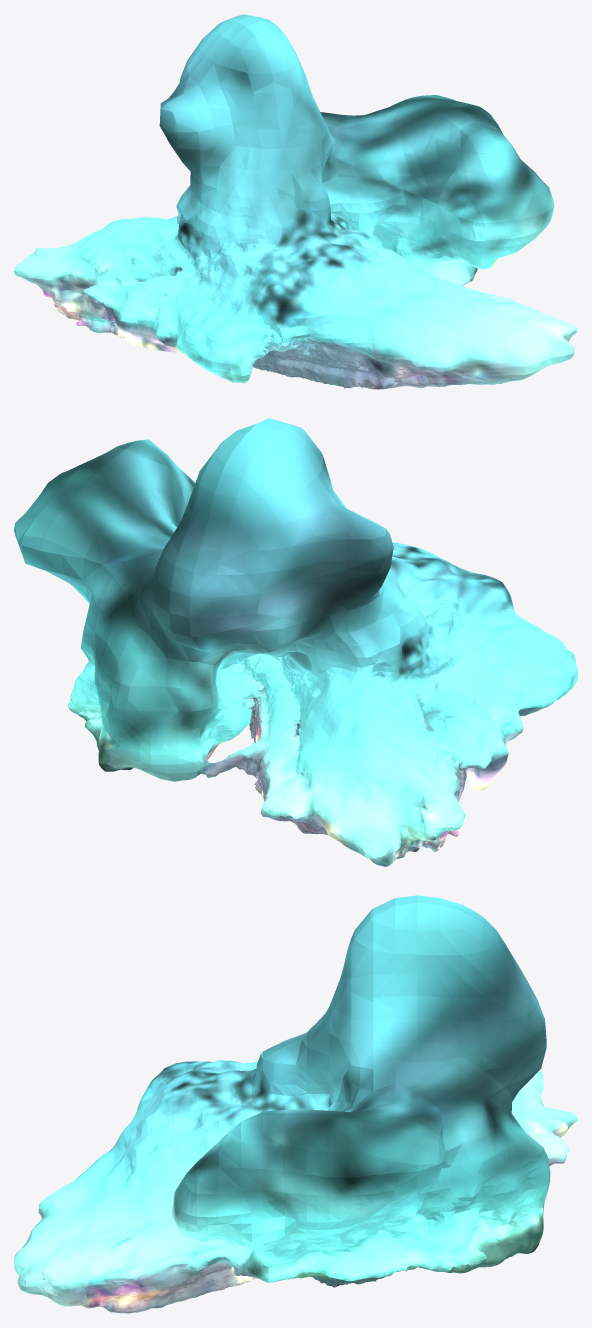
The model's file is neon_mesh.glb.
3 renders of one model, top to bottom at view 1: azimuth 30°, elevation 25°; view 2: azimuth 150°, elevation 25°; view 3: azimuth 270°, elevation 25°, orthographic. The views are drawn at different scales.
Parts seen in each view (by area): view 1: world; view 2: world; view 3: world.
Part boxes in pixels (x1=…): world: x1=14, y1=14, x2=577, y2=389; world: x1=14, y1=418, x2=577, y2=866; world: x1=14, y1=895, x2=577, y2=1313.
Bounding box in the file's own units: 89.76 × 59.92 × 89.89.
Materials: 1 (1 with a texture image).
